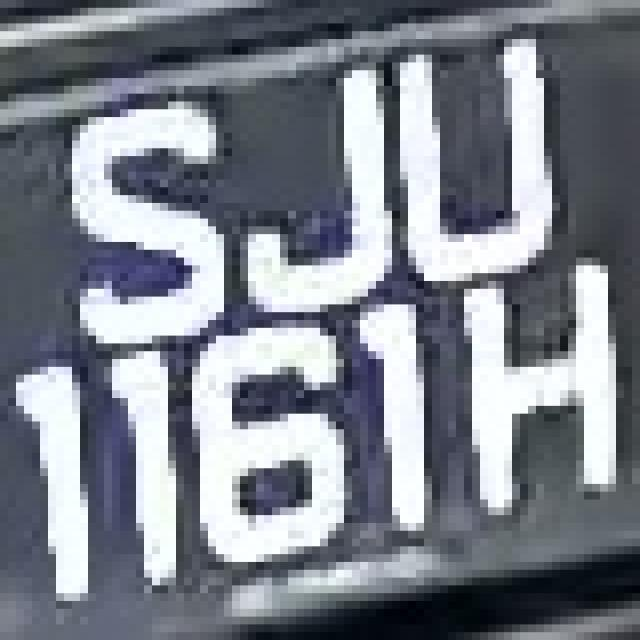1: (88, 328, 208, 585), (336, 281, 440, 554), (0, 4, 1, 7)
6: (184, 312, 344, 586)
H: (456, 242, 632, 523)
J: (232, 54, 400, 336)
S: (40, 101, 240, 367)
U: (392, 23, 576, 304)
